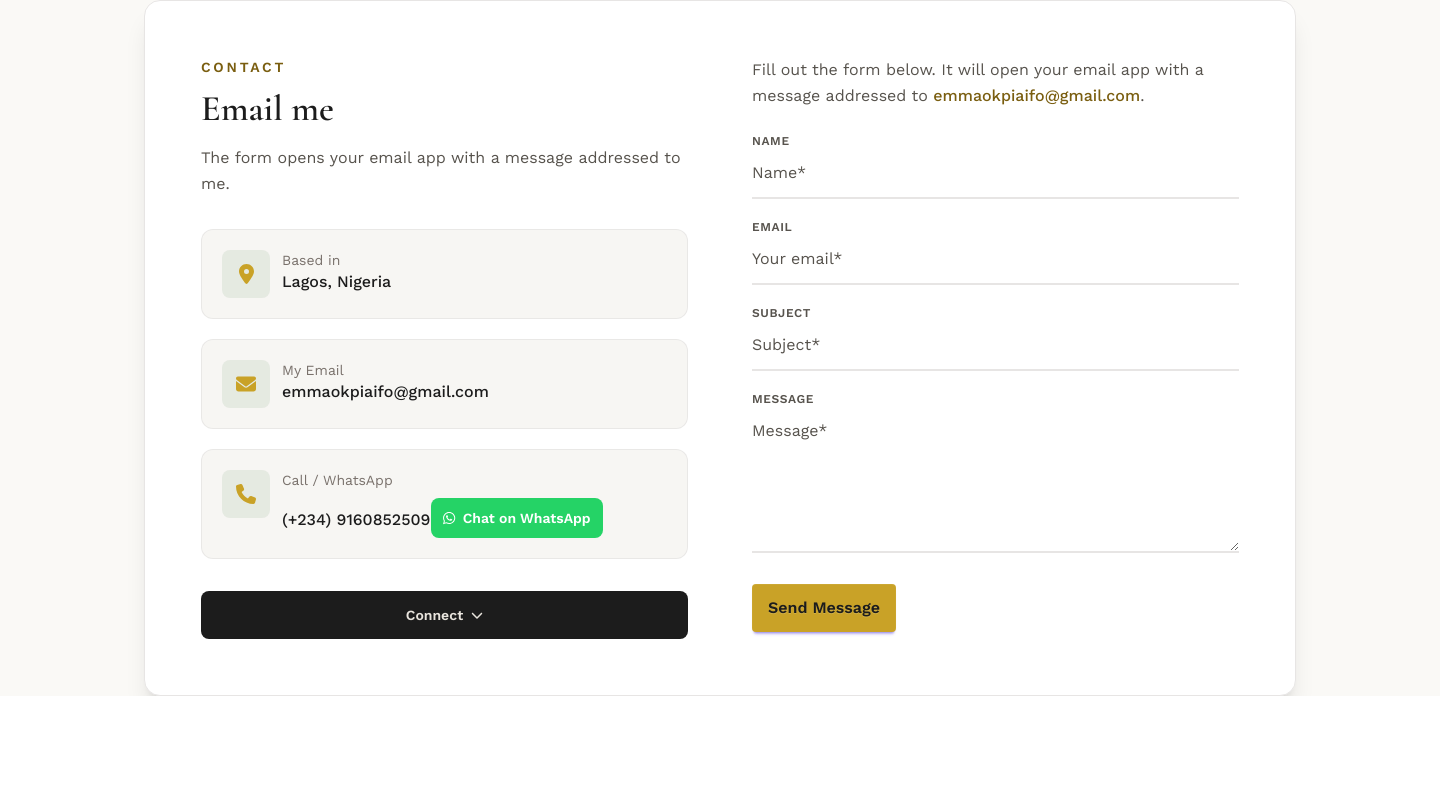
Test: website › opens a prefilled email from the contact form
The image size is (1440, 810).
Type "Ada Okonkwo" into the field labelled "Name" at (996, 174), box [752, 149, 1239, 199]
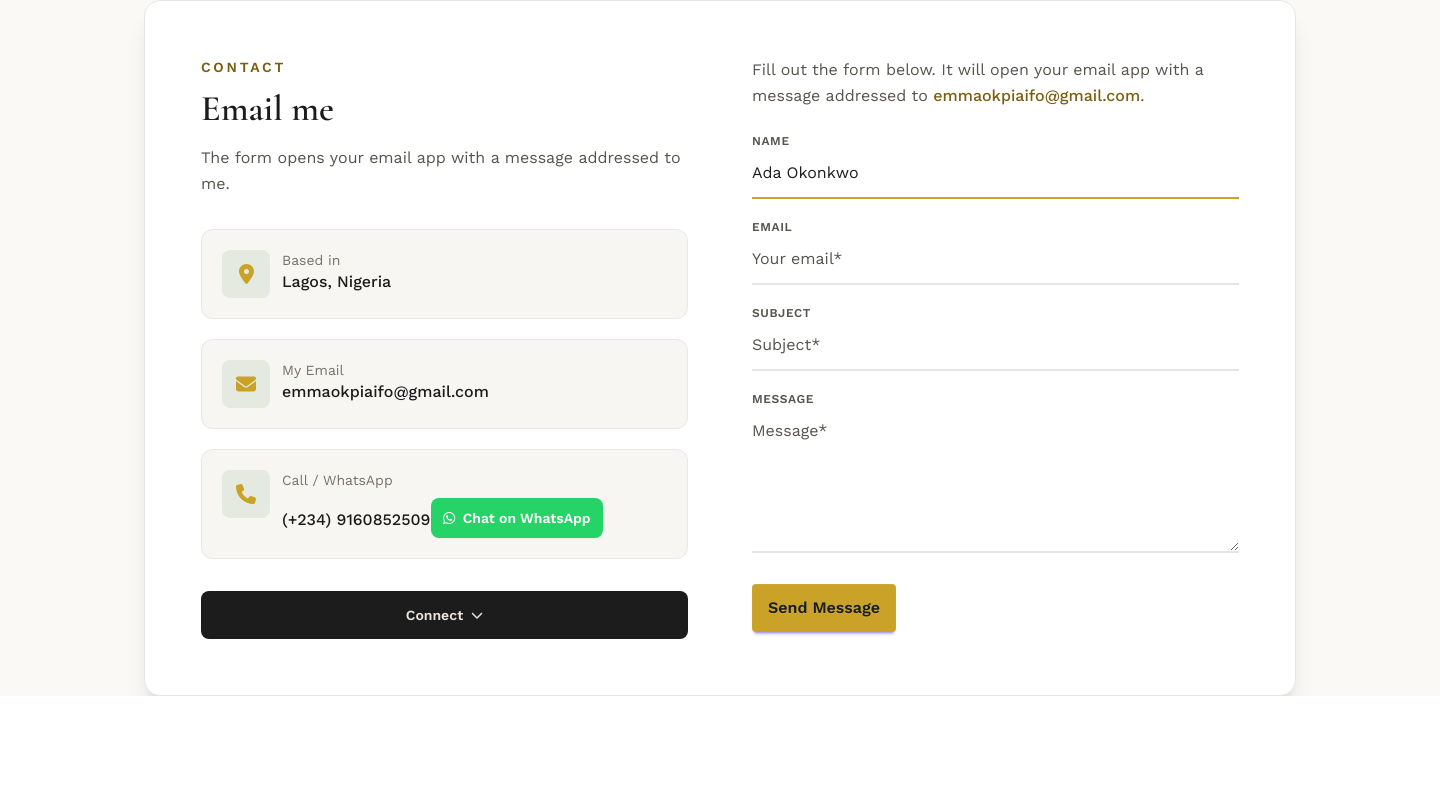
Type "ada@example.com" into the field labelled "Email" at (996, 260), box [752, 235, 1239, 285]
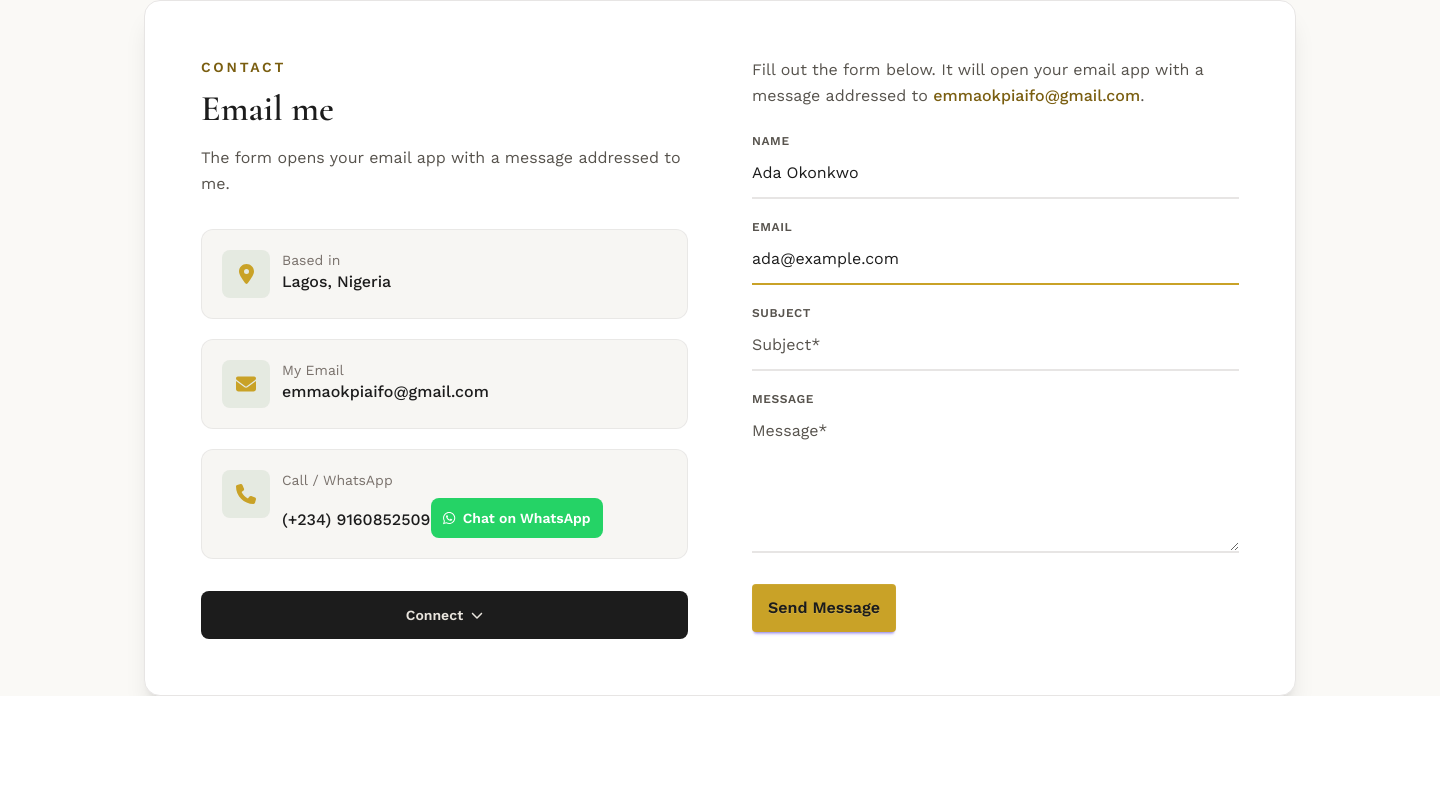
Type "Hello" into the field labelled "Subject" at (996, 346), box [752, 321, 1239, 371]
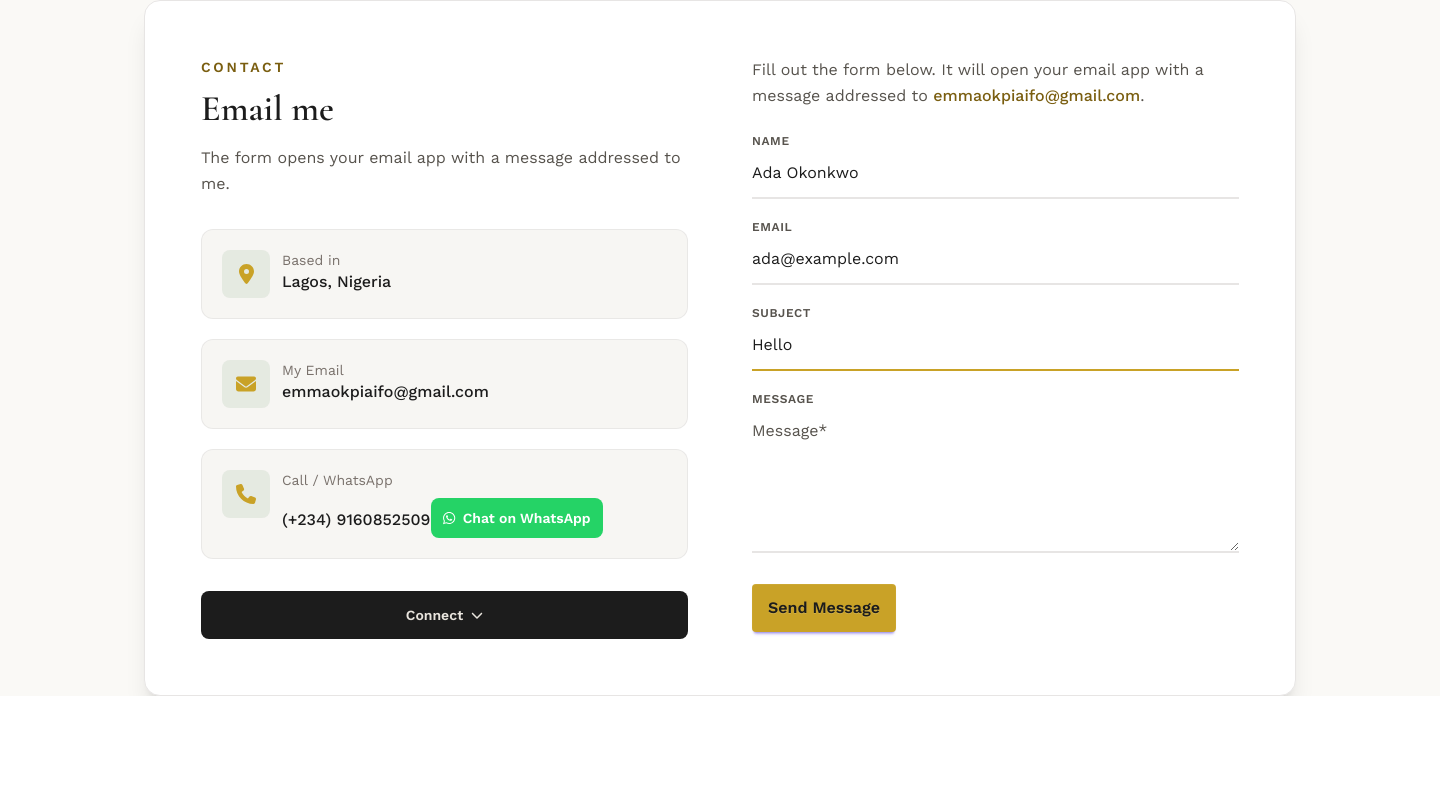
Type "I would like to work together." into the text box labelled "Message" at (996, 480), box [752, 407, 1239, 553]
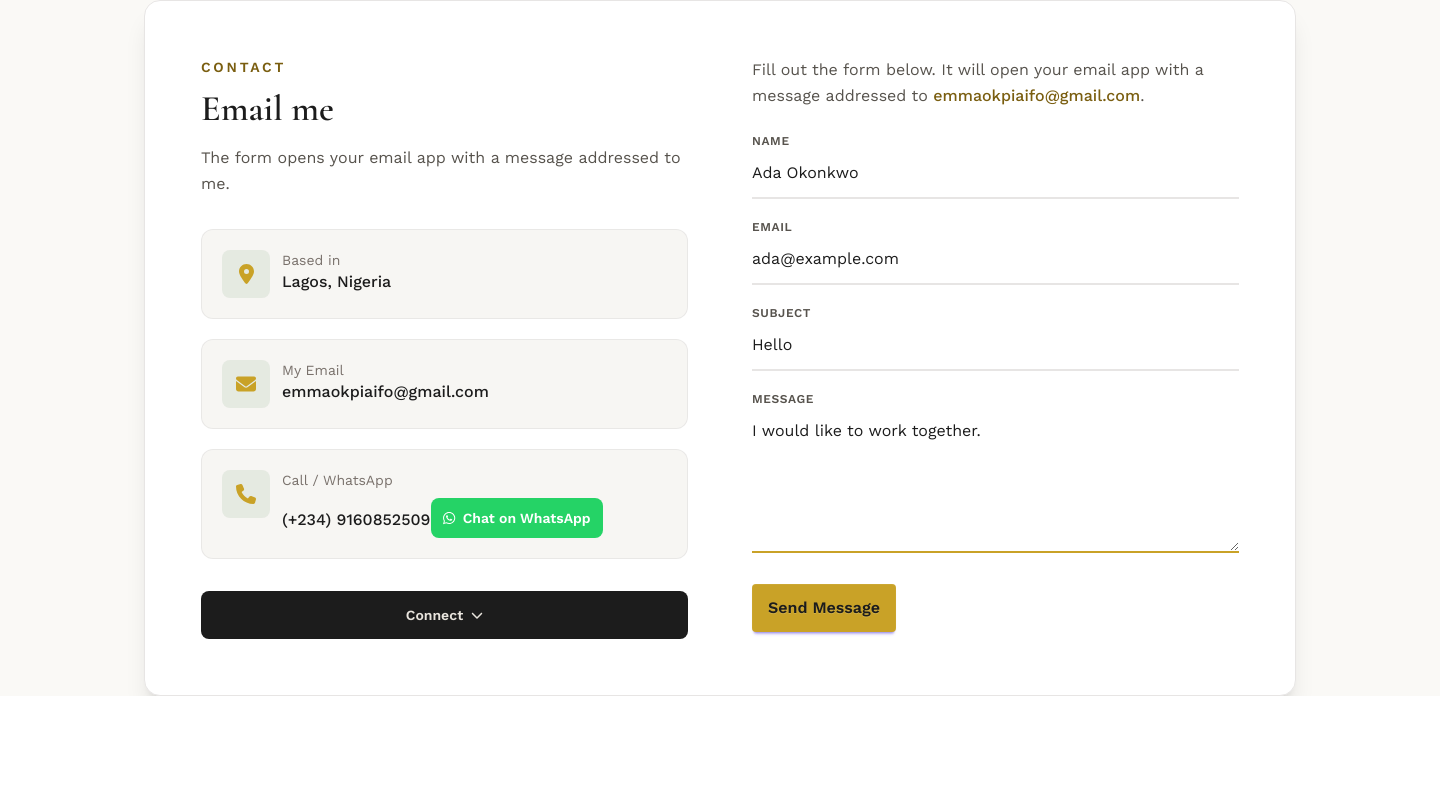
Click the button "Send Message" at (824, 608), box [752, 584, 896, 632]
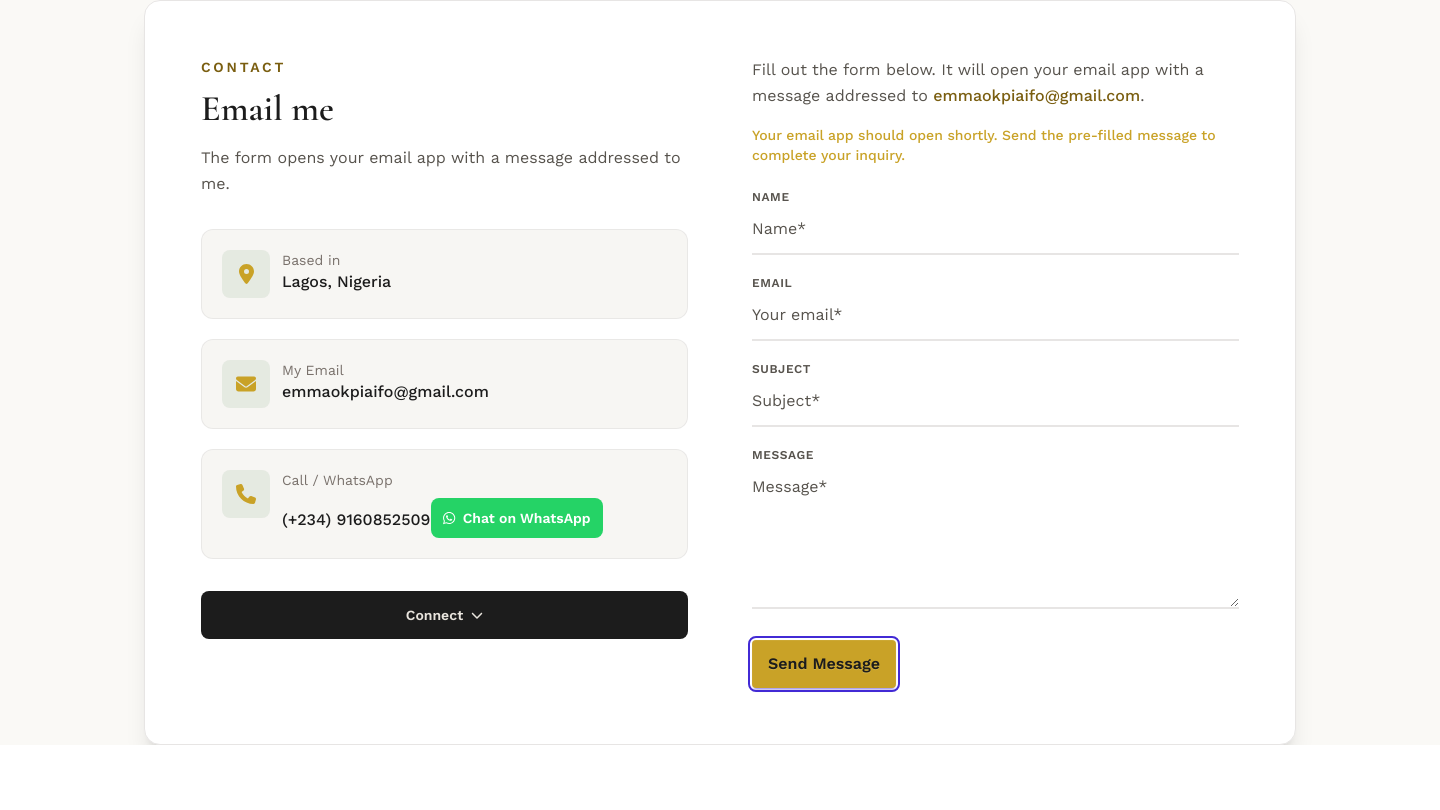
Now the text "email app should open" is shown, box [752, 127, 1216, 163]
